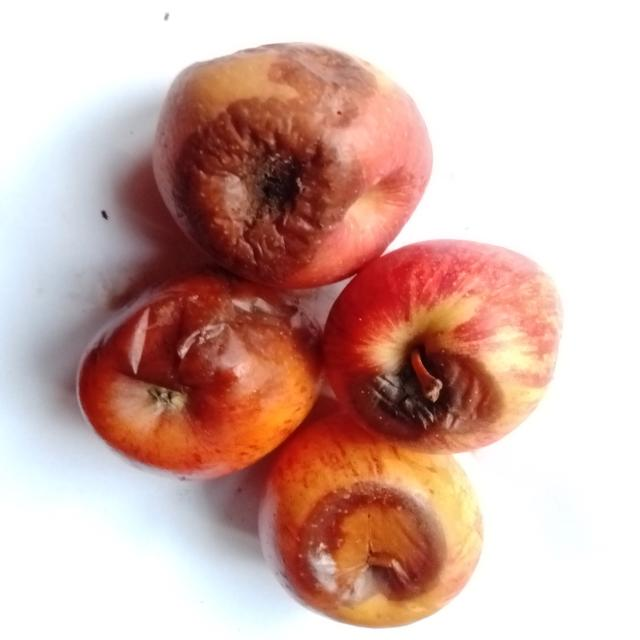apple: (154, 44, 432, 288), (78, 271, 321, 477), (325, 240, 561, 452), (260, 412, 482, 627)
